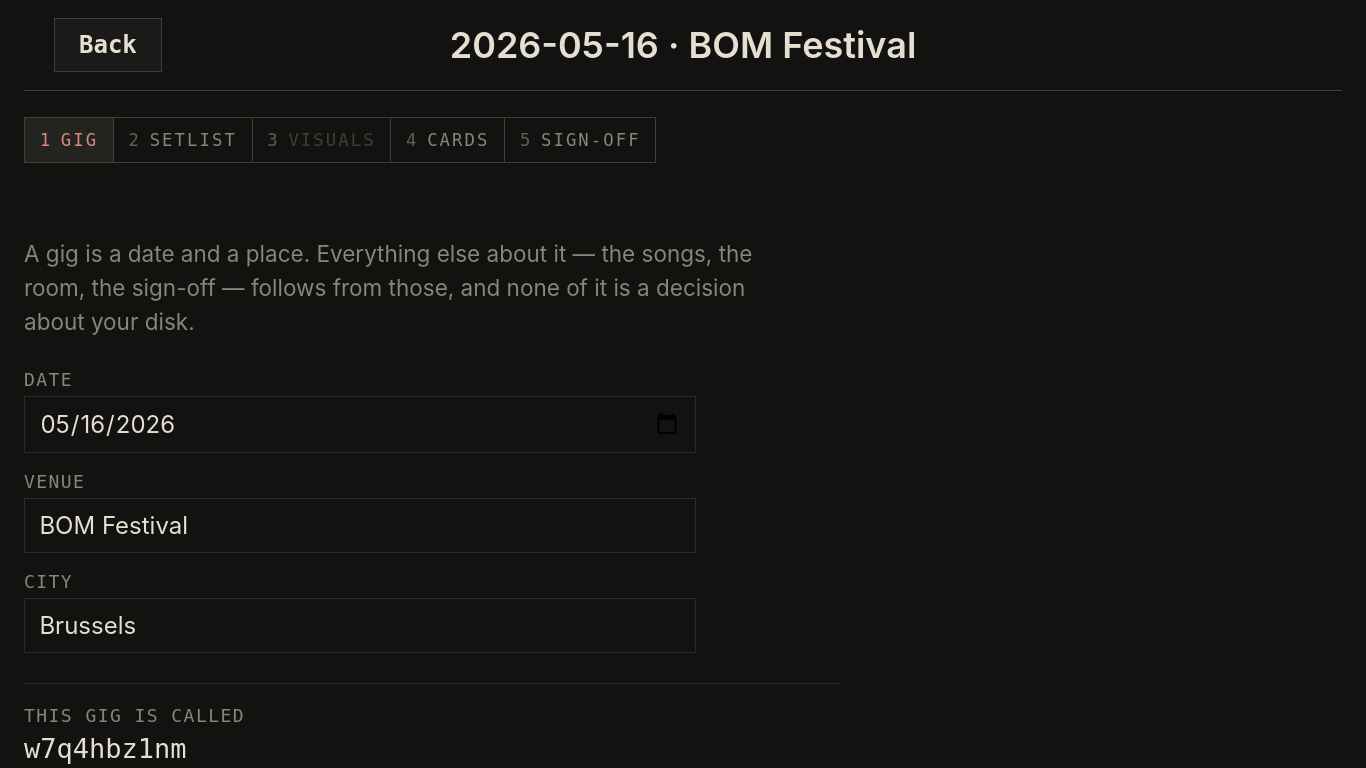
Scenario: leaving the gig flow › asks about an edit that has not been saved, and says so in its own words
Expected: the field with test id "gig-flow-venue" holds "BOM Festival", [24,498,696,553]
Step 1. Replace the text in the field with test id "gig-flow-city" with "Antwerp" → x=360, y=625, box [24,598,696,653]
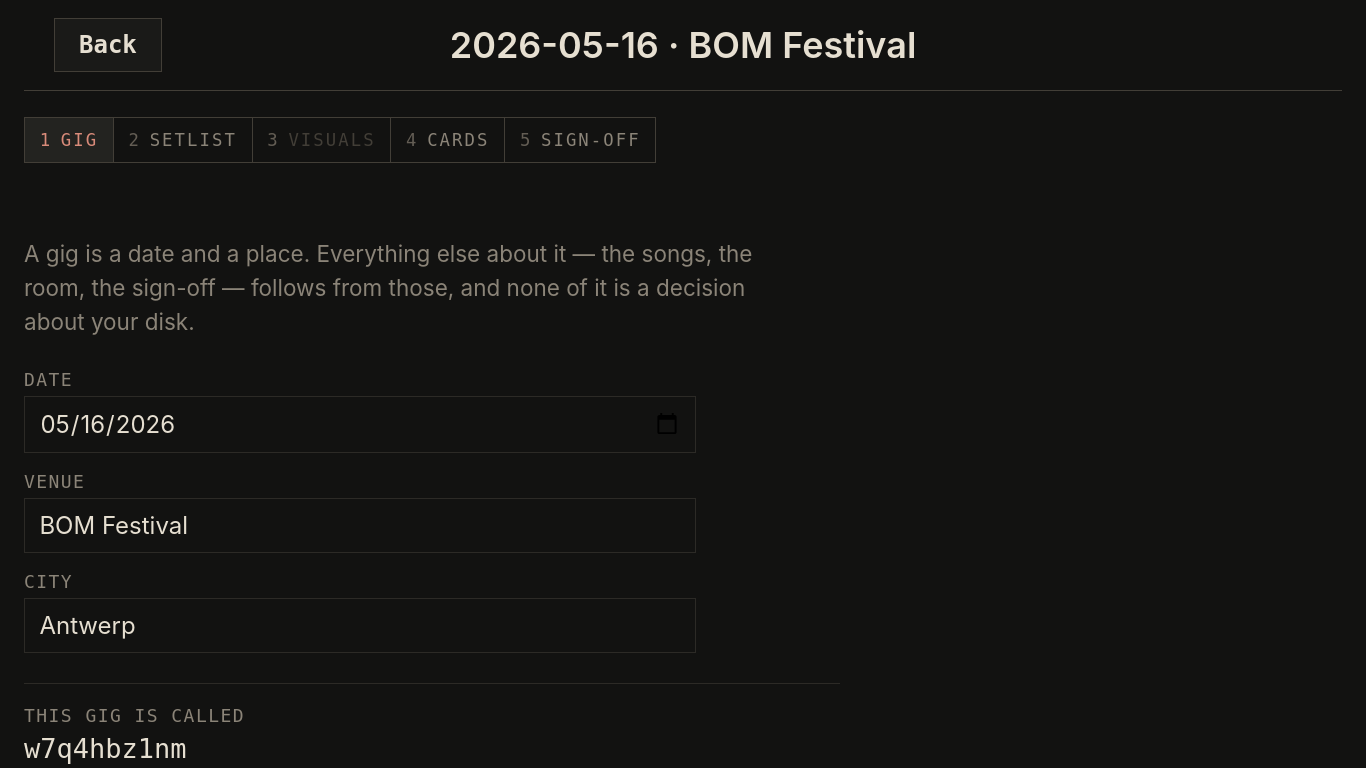
Step 2. Click the button with test id "gig-flow-leave" → x=108, y=45, box [54,18,162,72]
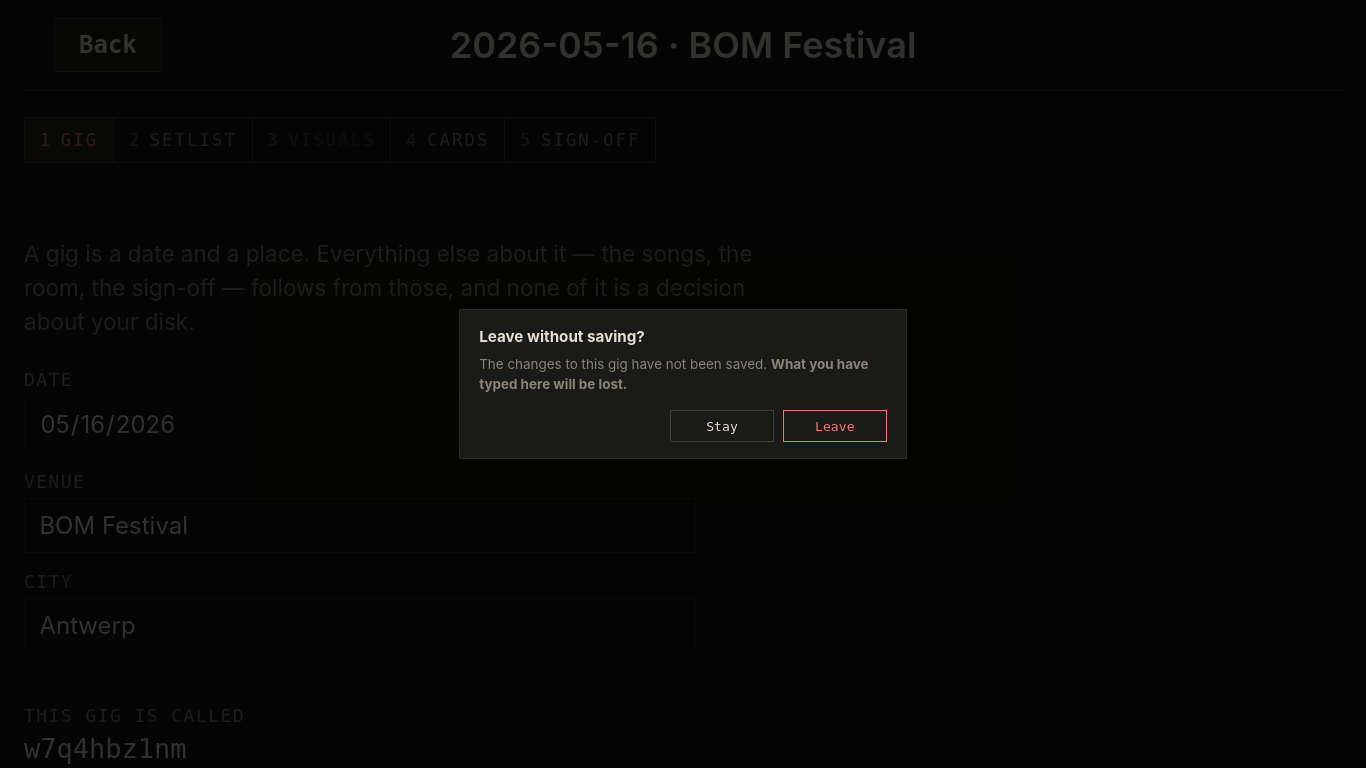
Result: the element with test id "gig-flow-leave-what" shows "The changes to this gig have not been saved." at [479,356,767,372]
